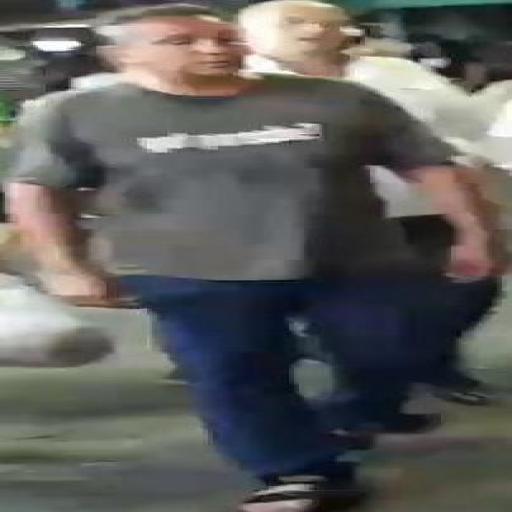person: (8, 5, 496, 511), (239, 0, 484, 153)
